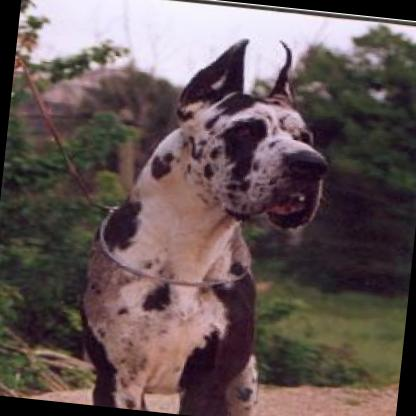Great_Dane: (61, 18, 339, 416)
